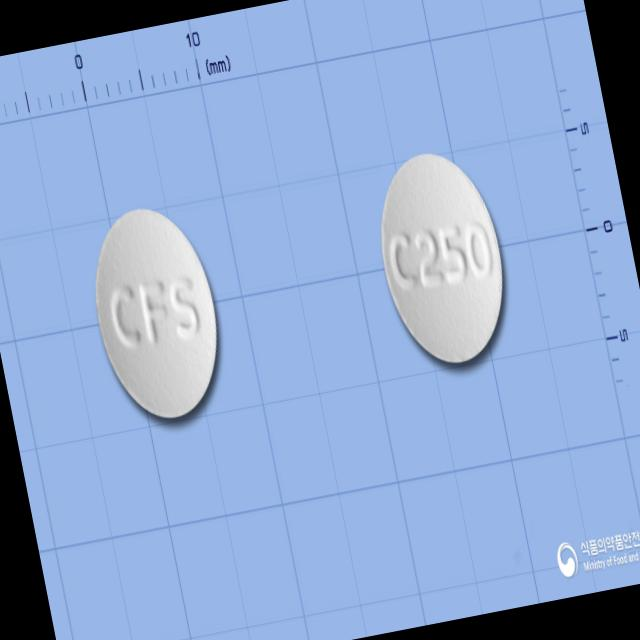Cipaxin: (360, 136, 526, 384), (74, 193, 240, 437)
